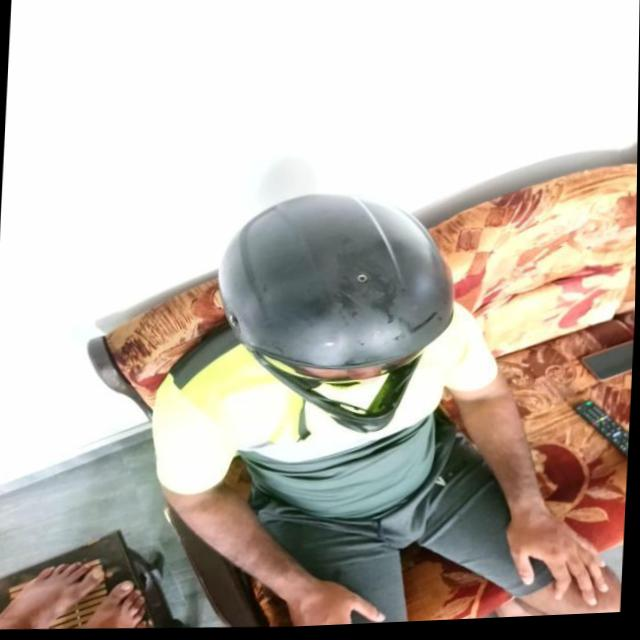helmet: (208, 188, 460, 454)
